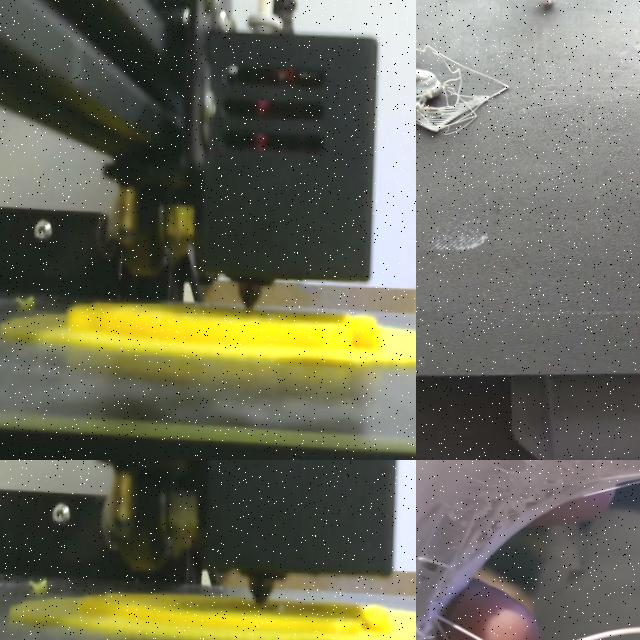spaghetti: (416, 460, 640, 640), (416, 0, 640, 144)
